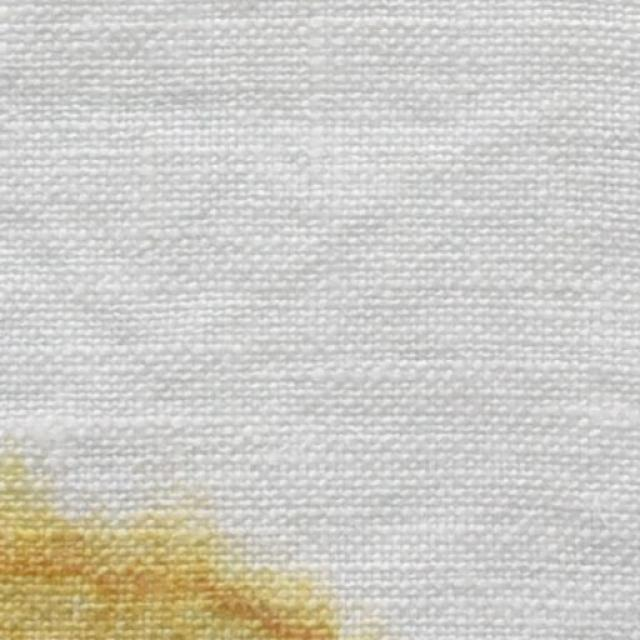Stain: (0, 452, 339, 640)
